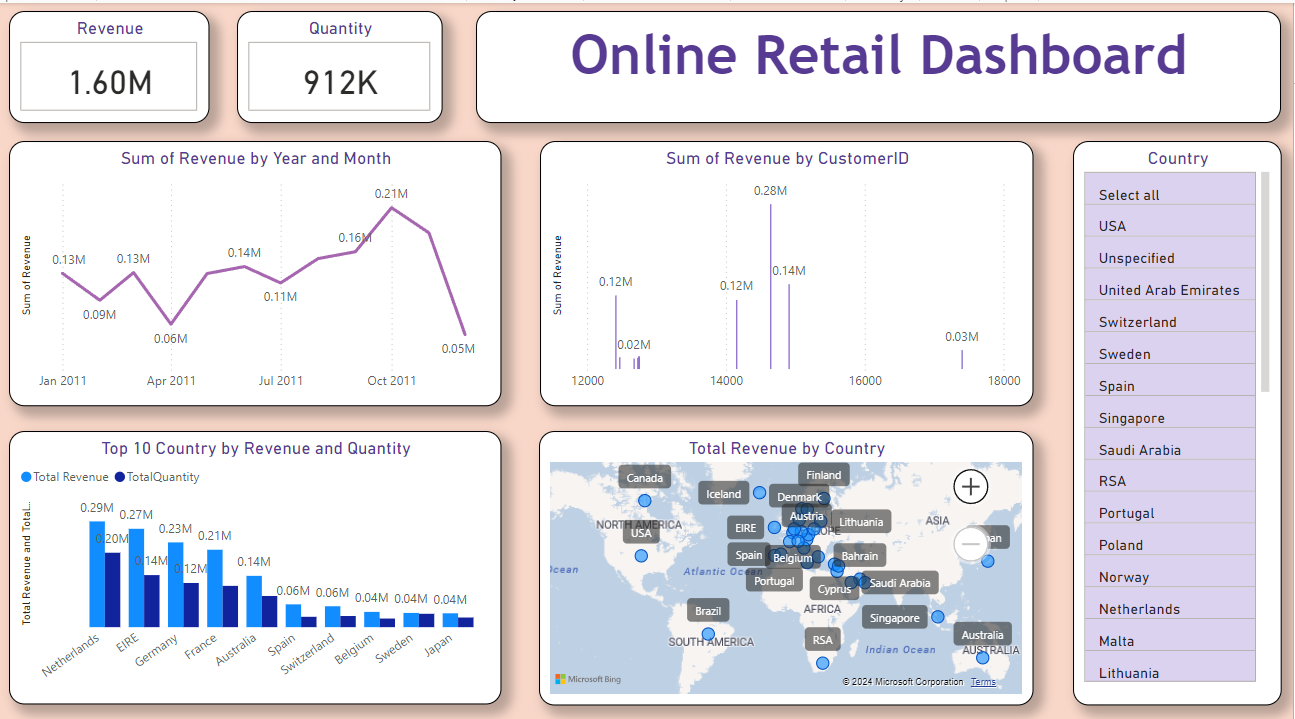

What the dashboard file says about the page in this screenshot:
{"tool":"powerbi","page":{"name":"Page 1","canvas":[1280,720],"ordinal":0},"visuals":[{"type":"lineChart","fields":{"Category":["Online Retail.InvoiceDate.Variation.Date Hierarchy.Year","Online Retail.InvoiceDate.Variation.Date Hierarchy.Month"],"Y":["Sum(Online Retail.Revenue)"]},"box":[31,133.9,478.6,257.8],"z":0},{"type":"clusteredColumnChart","title":"Top 10 Country by Revenue and Quantity","fields":{"Category":["Online Retail.Country"],"Y":["Online Retail.Total Revenue","Online Retail.TotalQuantity"]},"box":[31,416.7,478.6,265.8],"z":1000},{"type":"columnChart","fields":{"Category":["Online Retail.CustomerID"],"Y":["Sum(Online Retail.Revenue)"]},"box":[547.6,133.9,479.6,257.8],"z":2000},{"type":"map","fields":{"Category":["Online Retail.Country"]},"box":[546.6,416.7,480.6,266.8],"z":3000},{"type":"advancedSlicerVisual","fields":{"Values":["Online Retail.Country"]},"box":[1066.2,133.9,202.8,548.6],"z":4000},{"type":"cardVisual","title":"Revenue","fields":{"Data":["Sum(Online Retail.Revenue)"]},"box":[31,8,194.8,108.9],"z":5000},{"type":"cardVisual","title":"Quantity","fields":{"Data":["Sum(Online Retail.Quantity)"]},"box":[252.8,8,199.8,108.9],"z":6000},{"type":"textbox","box":[485.6,8,783.4,108.9],"z":7000}]}

Visuals, with their boxes in screenshot pixels (x1, y1, x2, y2), scaled from the page's 1280x720 canvas onto the 1295x719 screenshot:
lineChart - Online Retail.InvoiceDate.Variation.Date Hierarchy.Year x Online Retail.InvoiceDate.Variation.Date Hierarchy.Month: [31,134,516,391]
"Top 10 Country by Revenue and Quantity" clusteredColumnChart: [31,416,516,682]
columnChart - Online Retail.CustomerID x Sum(Online Retail.Revenue): [554,134,1039,391]
map - Online Retail.Country: [553,416,1039,683]
advancedSlicerVisual - Online Retail.Country: [1079,134,1284,682]
"Revenue" cardVisual: [31,8,228,117]
"Quantity" cardVisual: [256,8,458,117]
textbox: [491,8,1284,117]
